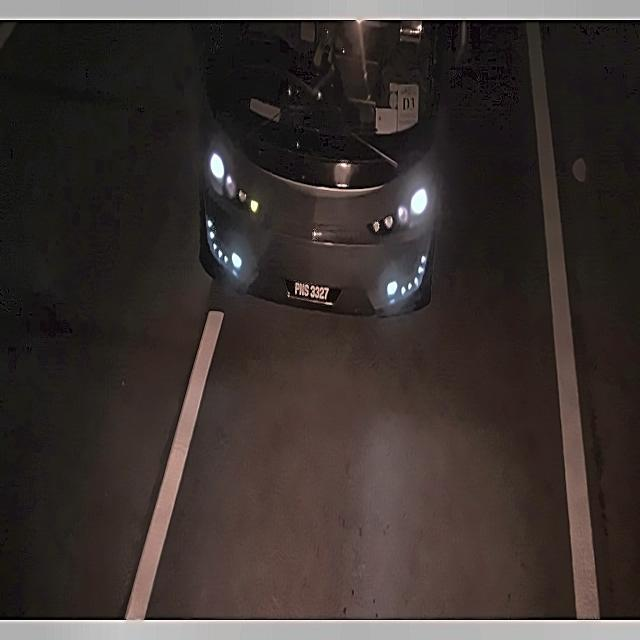car: (279, 264, 342, 310)
